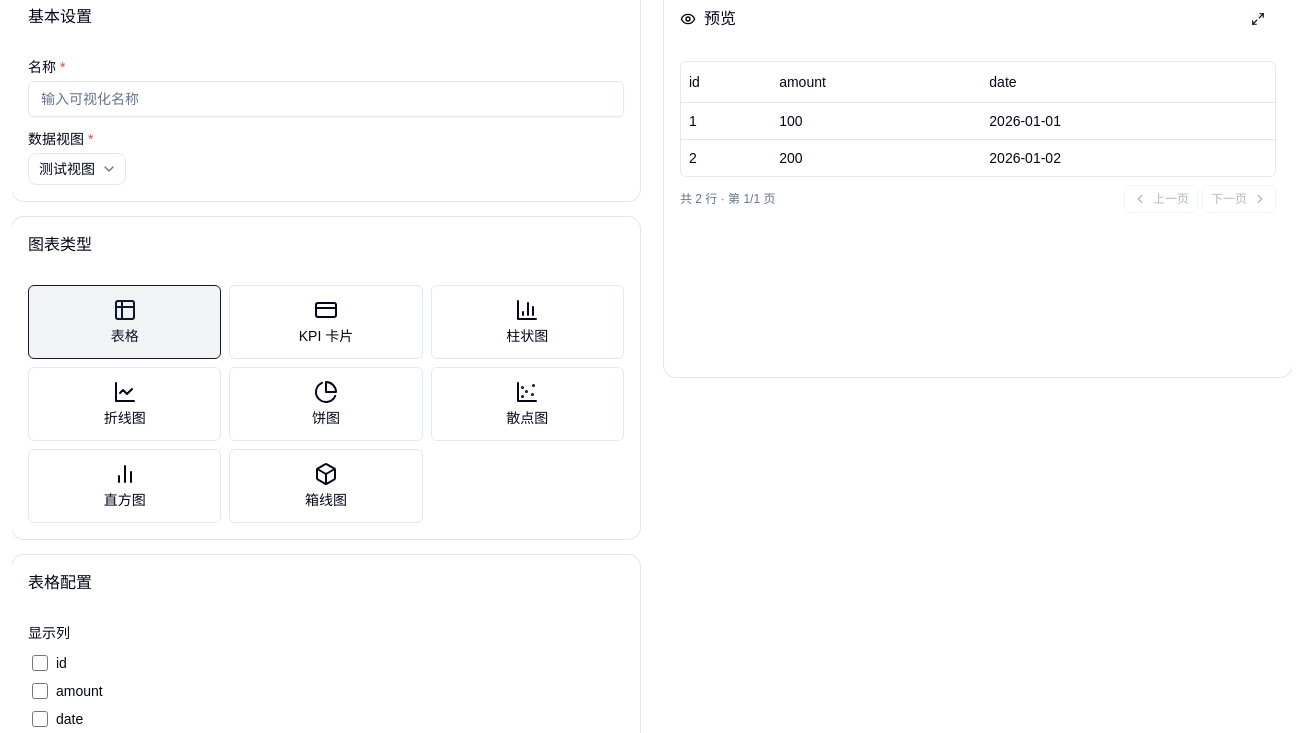
VisualizationBuilderPage › shows the boxplot config panel when 箱线图 is selected
The width and height of the screenshot is (1304, 733).
Click the button "箱线图" at (326, 486), box [229,449,423,523]
(page scrolled)
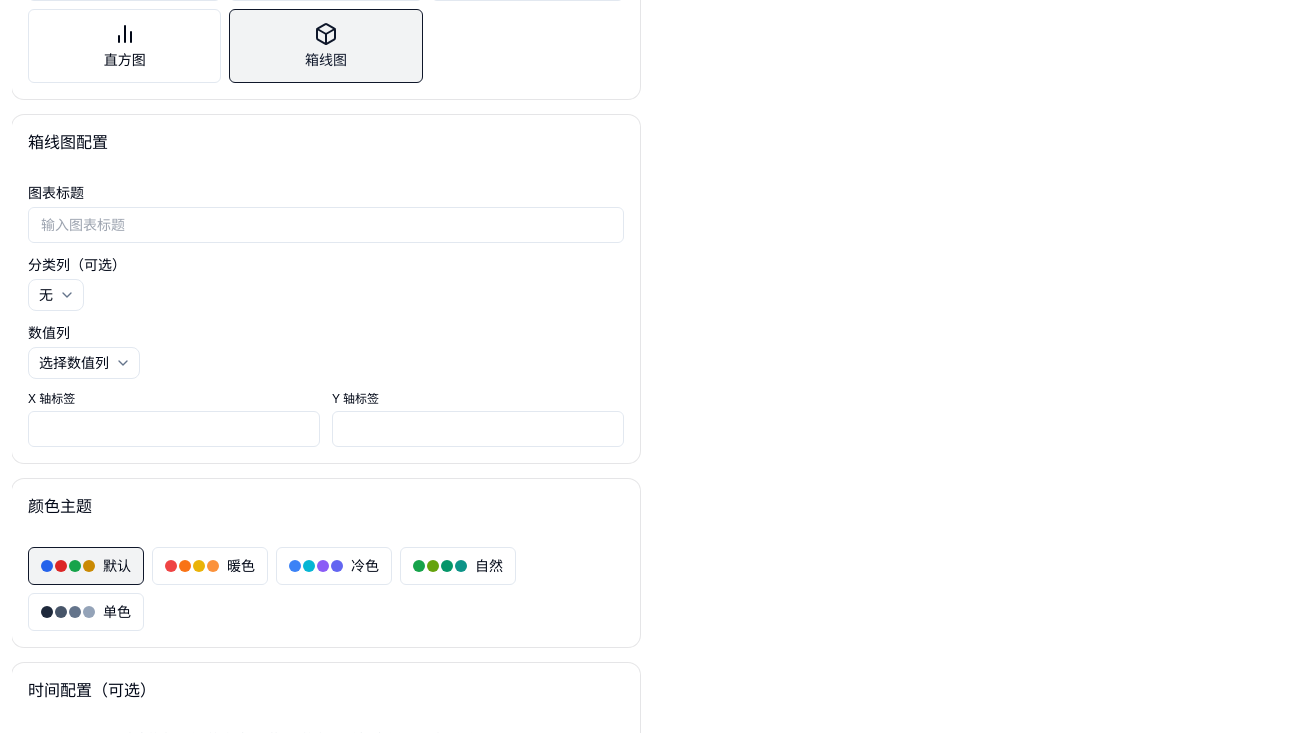
Expected: the text "箱线图配置" is shown, [28,134,108,151]
Expected: the text "分类列（可选）" is shown, [28,257,126,273]
Expected: the text "数值列" is shown, [28,325,70,341]
